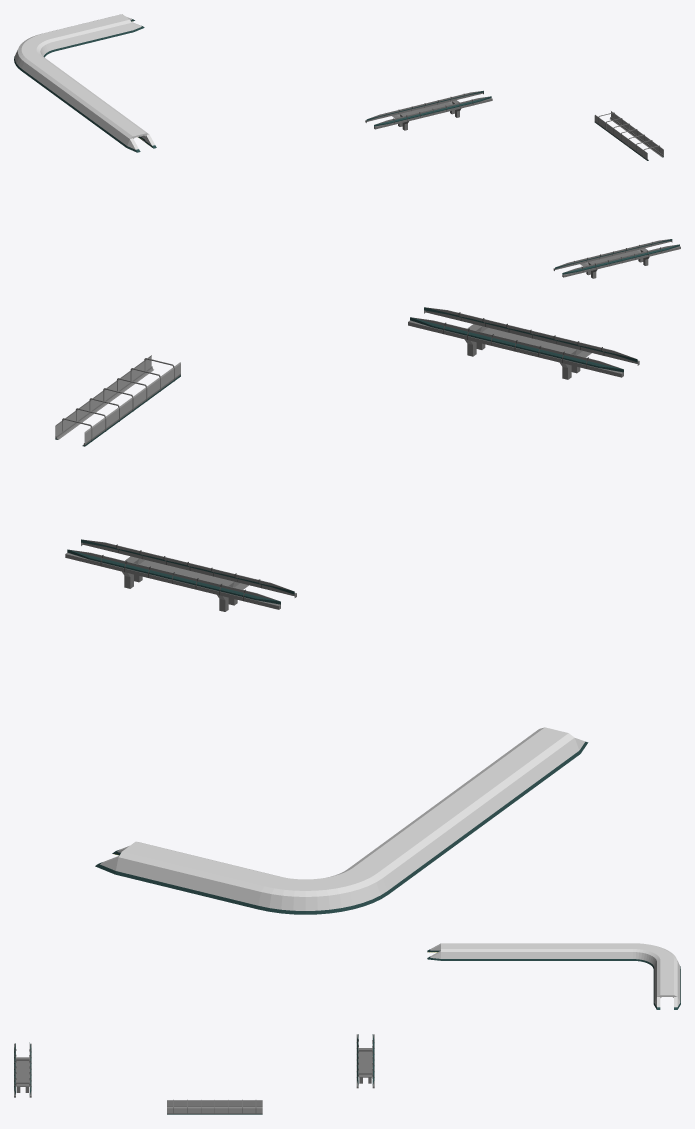
File: pine valley obstacles.fbx
3 views of the same model, one above another, from view 1: azimuth 30°, elevation 25°; view 2: azimuth 150°, elevation 25°; view 3: azimuth 270°, elevation 25° (orthographic). The views are drawn at different scales.
Visible parts, largest first — view 1: _(Loose Entity); view 2: _(Loose Entity); view 3: _(Loose Entity).
Boxes of the visible parts, bbox=[...] form: _(Loose Entity): bbox=[14, 14, 680, 278]; _(Loose Entity): bbox=[55, 307, 639, 914]; _(Loose Entity): bbox=[14, 943, 680, 1114].
Bounding box in the file's own units: 59275 × 4825 × 97297.
